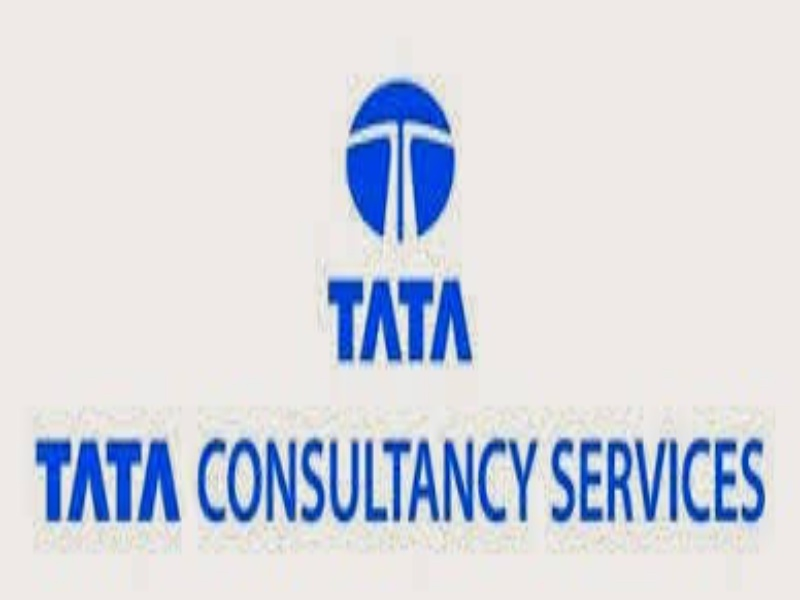tcs: (340, 77, 459, 246)
